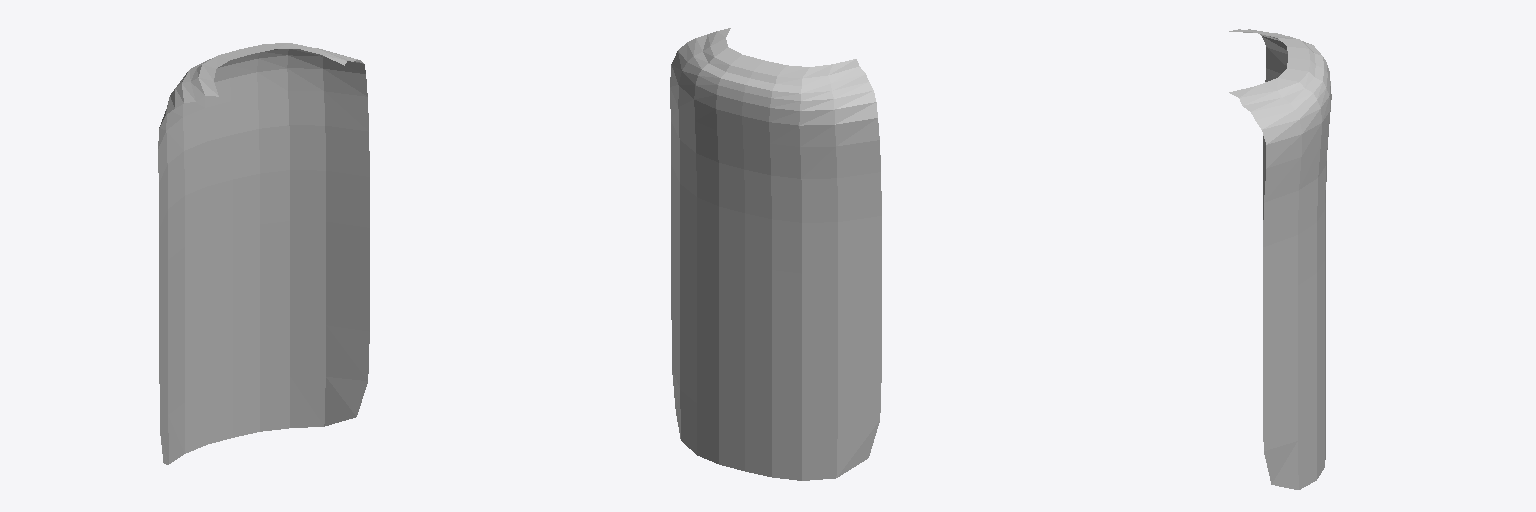
File: Cape 1.obj
The picture shows the model from 3 angles: view 1: azimuth 30°, elevation 25°; view 2: azimuth 150°, elevation 25°; view 3: azimuth 270°, elevation 25°; orthographic projection.
Parts seen in each view (by area): view 1: Plane; view 2: Plane; view 3: Plane.
Part boxes in pixels (x1,y1,x2,y2): Plane: (158,43,369,464); Plane: (670,28,881,480); Plane: (1229,29,1331,489).
Bounding box in the file's own units: 0.6455 × 1.16 × 0.2748.